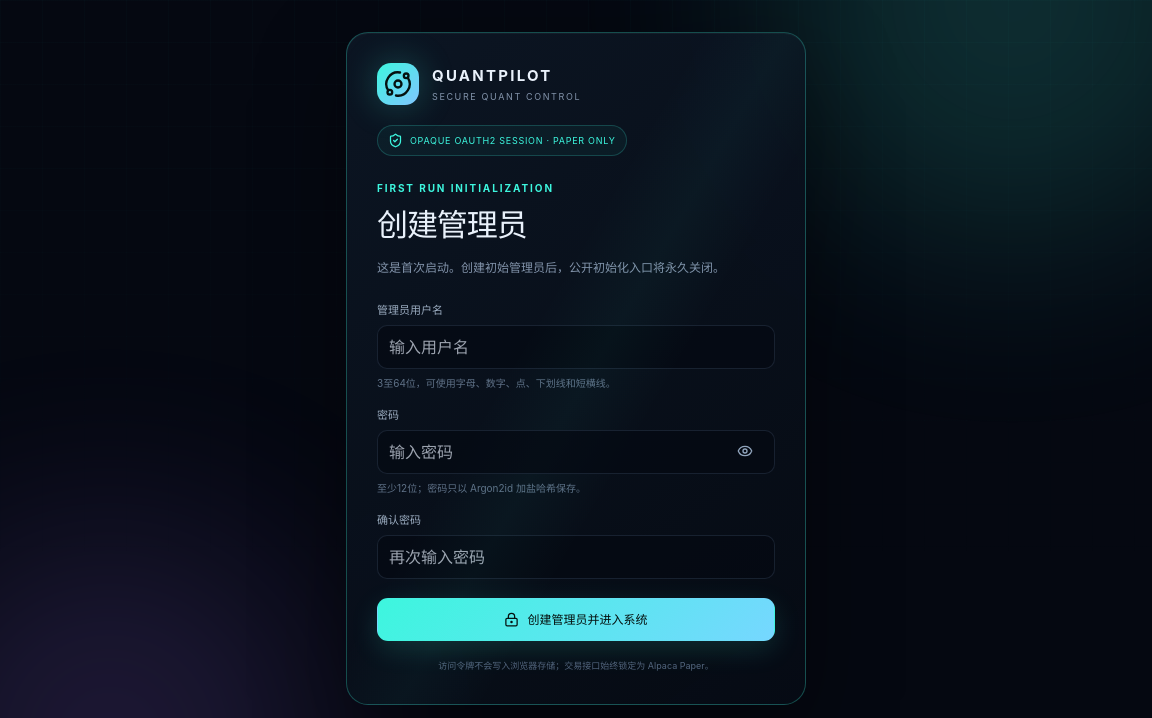
AuthGate › validates weak and mismatched first-run passwords in the browser
The image size is (1152, 718).
Expected: the heading "创建管理员" is shown, [377,206,527,243]
Step 1. Type "charles" into the field labelled "管理员用户名" → point(576, 347), box [377,325,775,369]
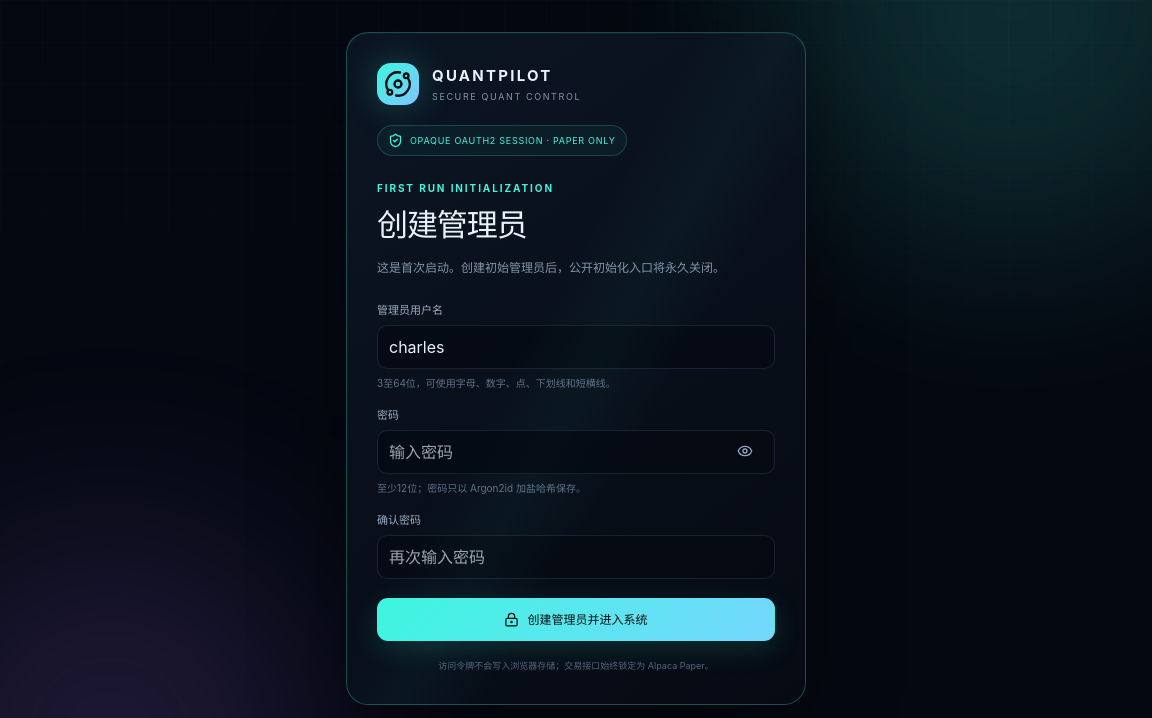
Step 2. Type "short" into the password field labelled "密码" → point(576, 452), box [377,430,775,474]
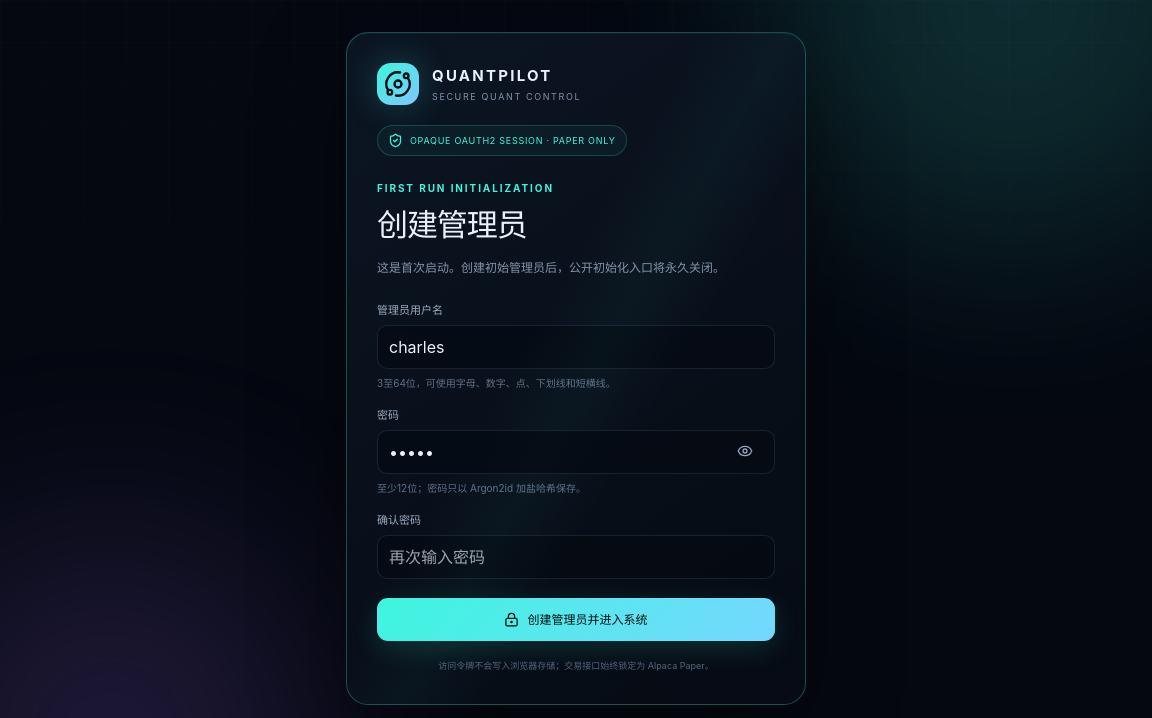
Step 3. Type "different" into the password field labelled "确认密码" → point(576, 557), box [377,535,775,579]
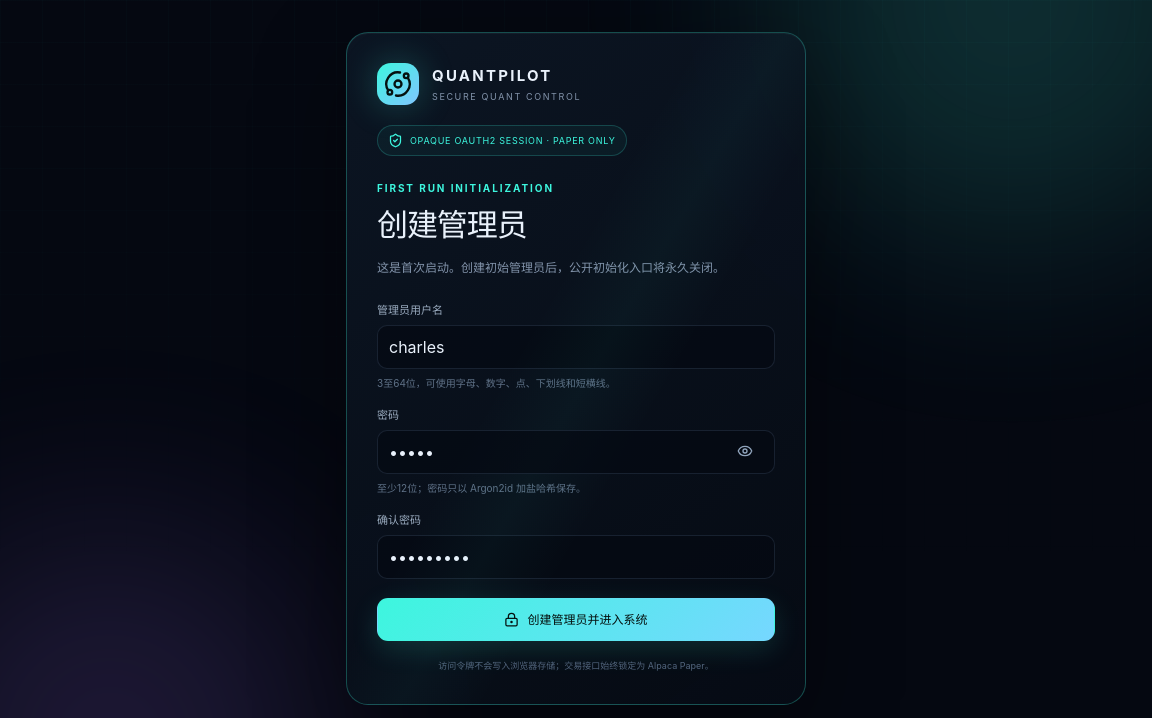
Step 4. Click the button "创建管理员并进入系统" → point(576, 620), box [377,598,775,641]
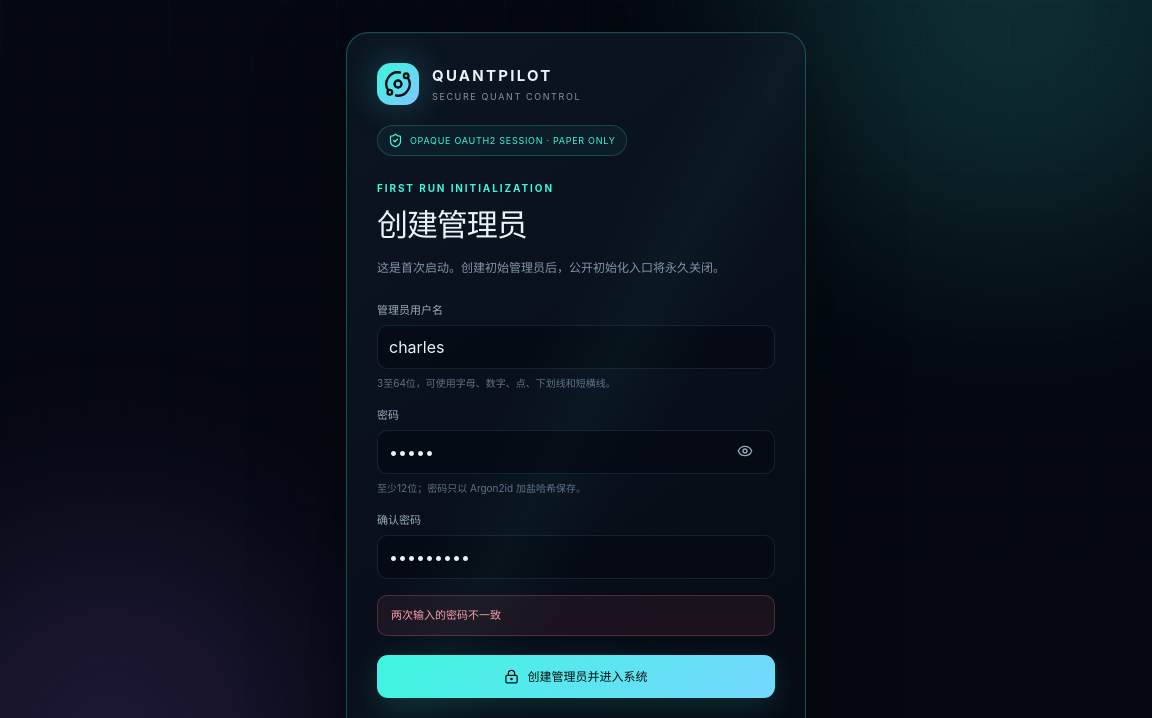
Expected: the message reads "两次输入的密码不一致", [391,608,501,622]
Step 5. Type "short" into the password field labelled "确认密码" → point(576, 557), box [377,535,775,579]
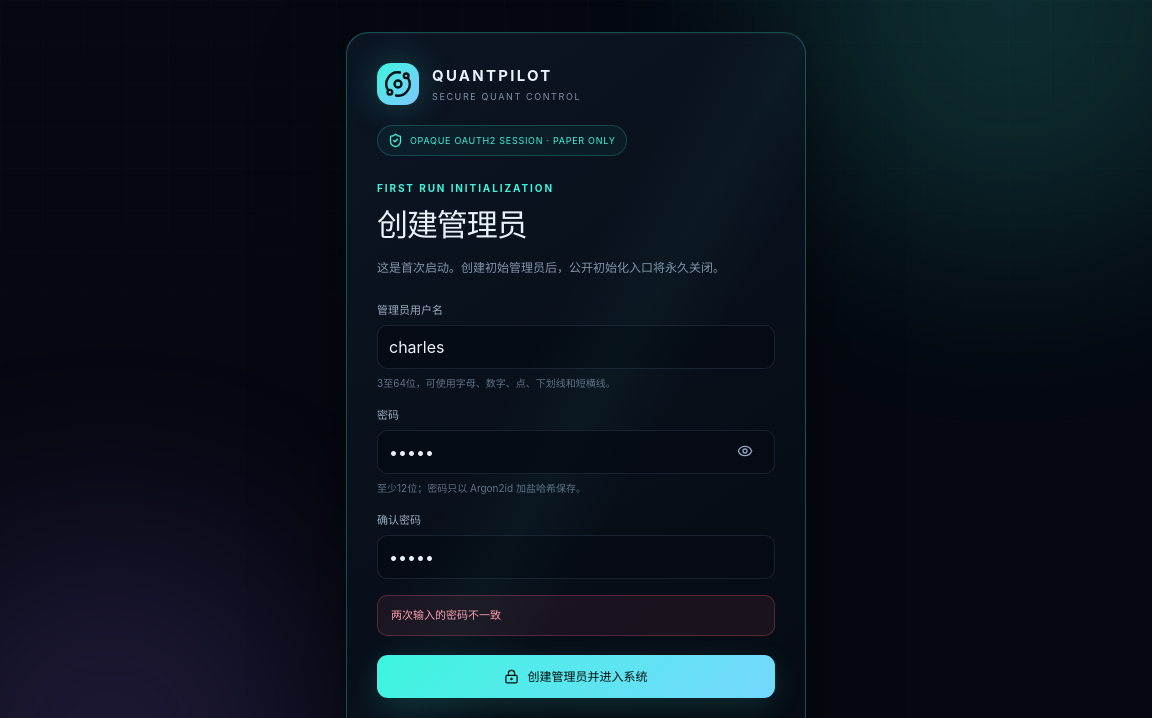
Step 6. Click the button "创建管理员并进入系统" → point(576, 677), box [377,655,775,698]
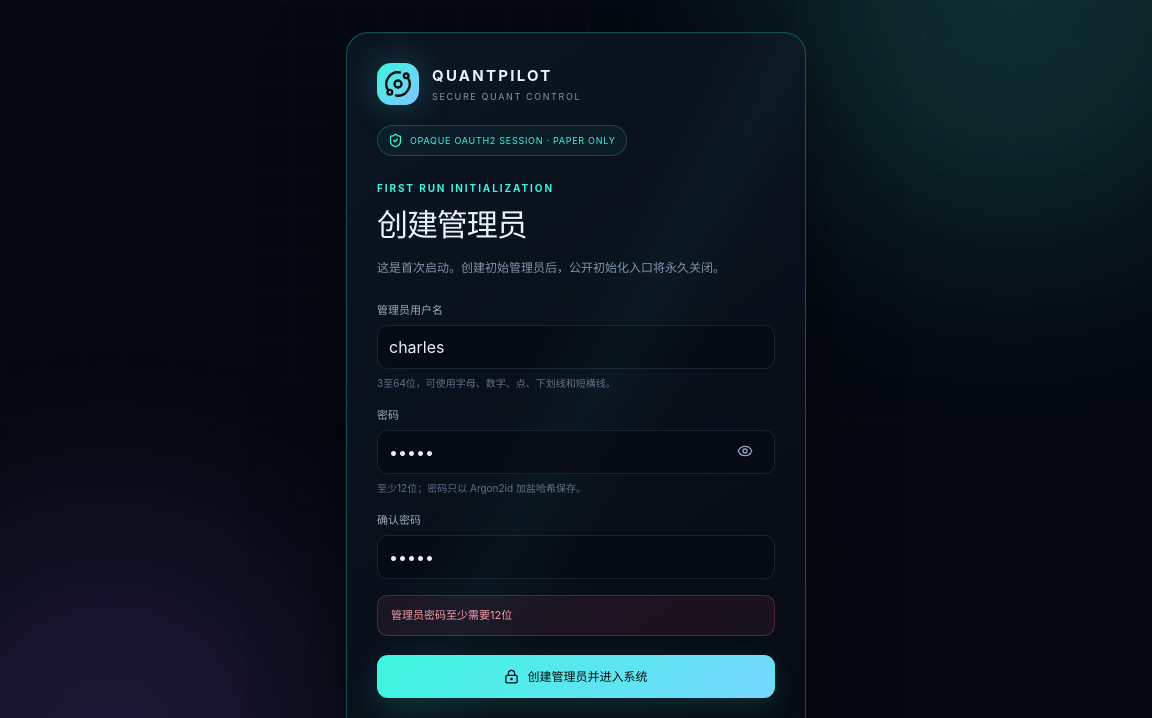
Expected: the message reads "管理员密码至少需要12位", [391,608,512,622]
